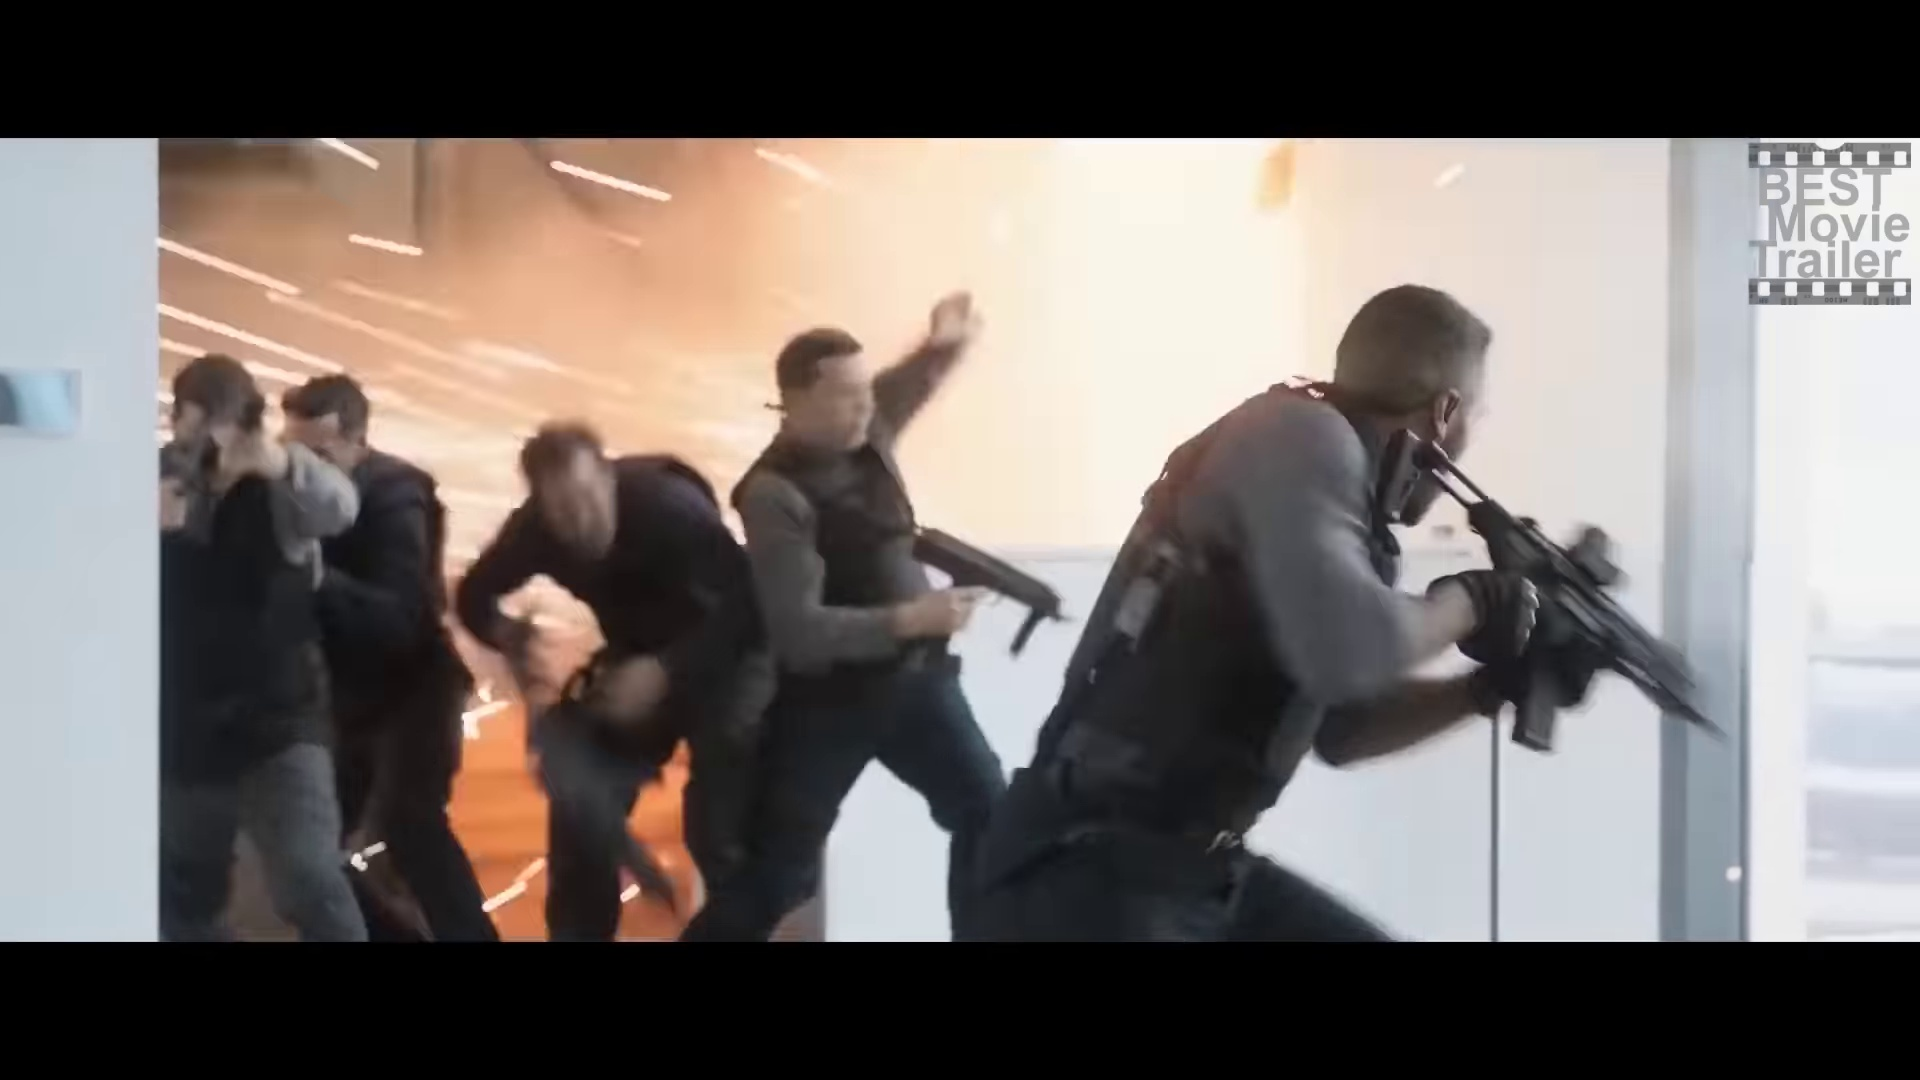gun: (1373, 419, 1726, 769), (901, 521, 1080, 665), (160, 430, 227, 547)
p_w_gun: (955, 278, 1729, 943), (692, 284, 1048, 951), (154, 351, 375, 944)
p_wo_gun_carrying_another_object: (454, 407, 757, 949)
p_wo_gun_not_carrying_normal_pose: (274, 372, 501, 943)
